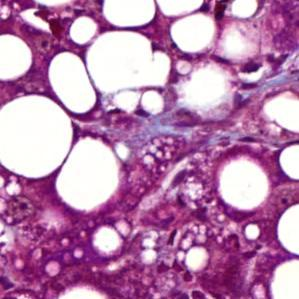steatosis: (0, 97, 75, 176), (85, 34, 174, 91), (57, 138, 122, 210), (50, 50, 94, 117), (219, 157, 271, 209), (167, 14, 219, 56), (0, 28, 34, 86), (69, 15, 95, 48)
